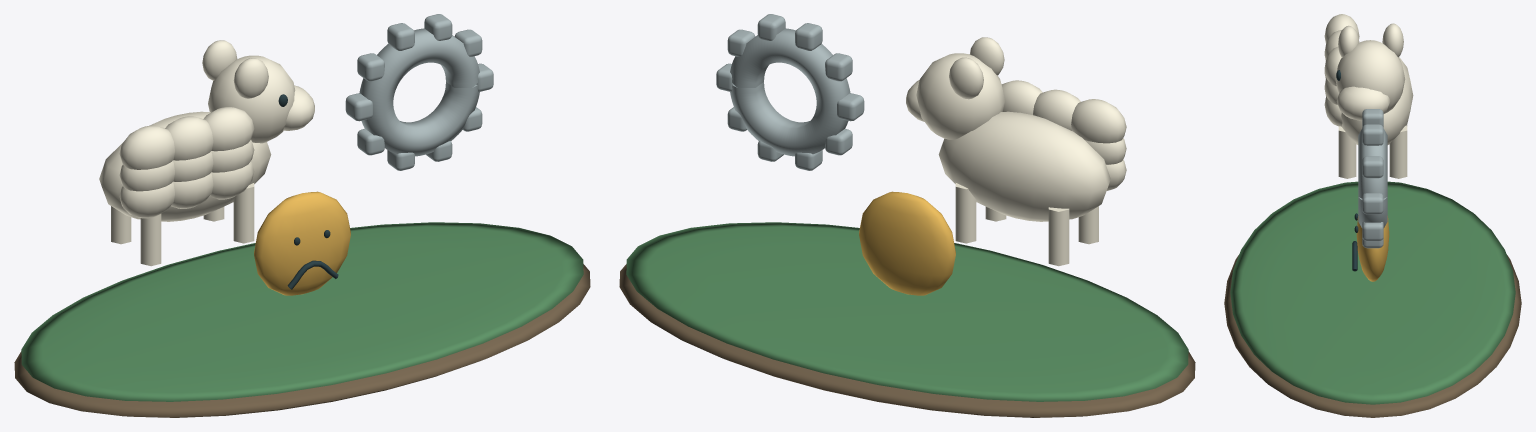
File: complete-first-poor-sheep-work.glb
3 views of the same model, side by side, from view 1: azimuth 30°, elevation 25°; view 2: azimuth 150°, elevation 25°; view 3: azimuth 270°, elevation 25° (orthographic). The views are drawn at different scales.
Parts seen in each view (by area): view 1: complete-first-poor-sheep-work_surface_01, complete-first-poor-sheep-work_surface_02, complete-first-poor-sheep-work_surface_04, complete-first-poor-sheep-work_surface_00, complete-first-poor-sheep-work_surface_05, complete-first-poor-sheep-work_surface_03; view 2: complete-first-poor-sheep-work_surface_01, complete-first-poor-sheep-work_surface_02, complete-first-poor-sheep-work_surface_04, complete-first-poor-sheep-work_surface_00, complete-first-poor-sheep-work_surface_05; view 3: complete-first-poor-sheep-work_surface_01, complete-first-poor-sheep-work_surface_02, complete-first-poor-sheep-work_surface_00, complete-first-poor-sheep-work_surface_04, complete-first-poor-sheep-work_surface_05.
Boxes of the visible parts, x1,y1,x2,y2 form: complete-first-poor-sheep-work_surface_01: (21,222,583,401); complete-first-poor-sheep-work_surface_02: (99,40,314,266); complete-first-poor-sheep-work_surface_04: (345,14,493,170); complete-first-poor-sheep-work_surface_00: (14,264,590,417); complete-first-poor-sheep-work_surface_05: (254,191,350,295); complete-first-poor-sheep-work_surface_03: (278,94,338,289); complete-first-poor-sheep-work_surface_01: (626,222,1188,401); complete-first-poor-sheep-work_surface_02: (906,37,1126,266); complete-first-poor-sheep-work_surface_04: (716,14,864,170); complete-first-poor-sheep-work_surface_00: (619,264,1195,417); complete-first-poor-sheep-work_surface_05: (859,191,955,295); complete-first-poor-sheep-work_surface_01: (1230,181,1515,404); complete-first-poor-sheep-work_surface_02: (1324,14,1413,178); complete-first-poor-sheep-work_surface_00: (1224,255,1521,417); complete-first-poor-sheep-work_surface_04: (1358,109,1387,248); complete-first-poor-sheep-work_surface_05: (1356,216,1389,281).
Size of the model in its own units: 4.56 by 2.44 by 2.5.
